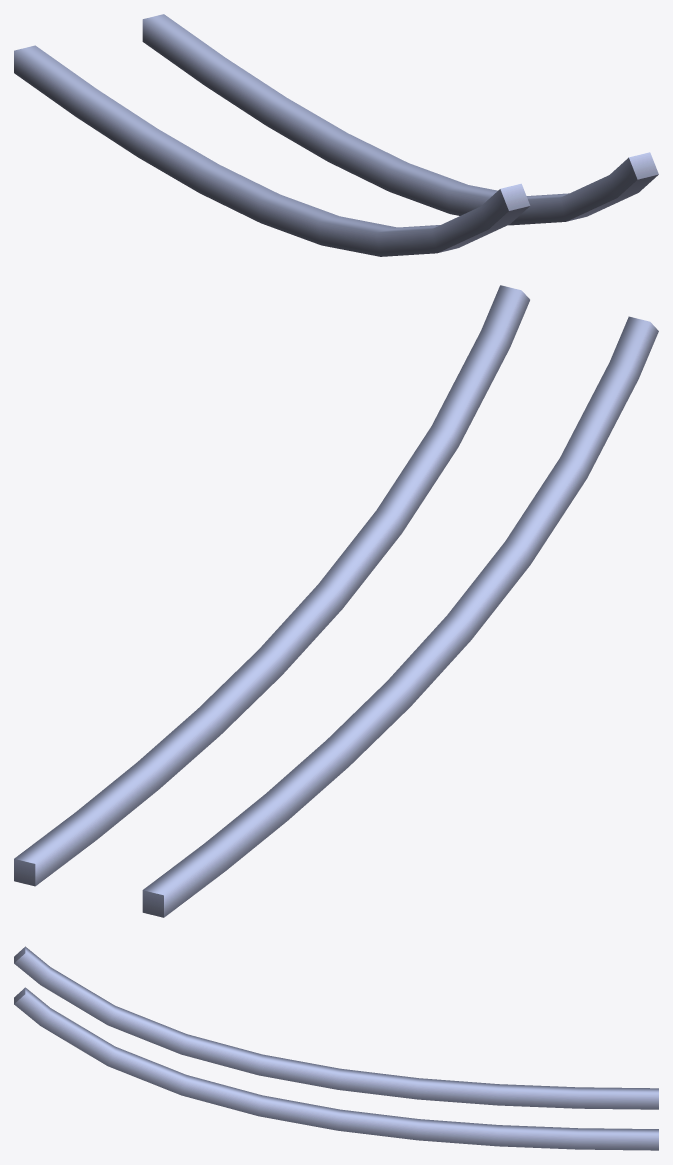
The model's file is kenney-train-railroad-rail-straight-hill-beginning.glb.
3 renders of one model, top to bottom at view 1: azimuth 30°, elevation 25°; view 2: azimuth 150°, elevation 25°; view 3: azimuth 270°, elevation 25°, orthographic. The views are drawn at different scales.
Visible parts, largest first — view 1: railroad-rail-straight-hill-beginning; view 2: railroad-rail-straight-hill-beginning; view 3: railroad-rail-straight-hill-beginning.
Part boxes in pixels (x1,y1,x2,y2): railroad-rail-straight-hill-beginning: [14, 14, 658, 256]; railroad-rail-straight-hill-beginning: [14, 285, 658, 917]; railroad-rail-straight-hill-beginning: [14, 946, 658, 1150].
Bounding box in the file's own units: 0.6997 × 1.07 × 4.
Materials: 1 (1 with a texture image).
